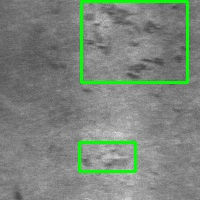rolled-in_scale: (81, 1, 187, 82), (79, 142, 135, 171)
